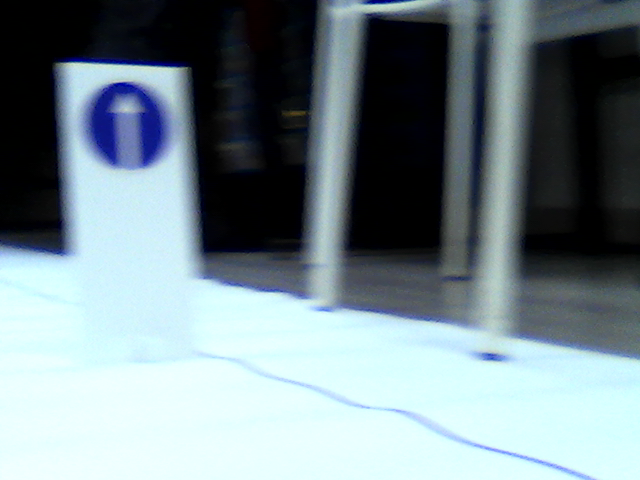forw: (87, 77, 169, 172)
